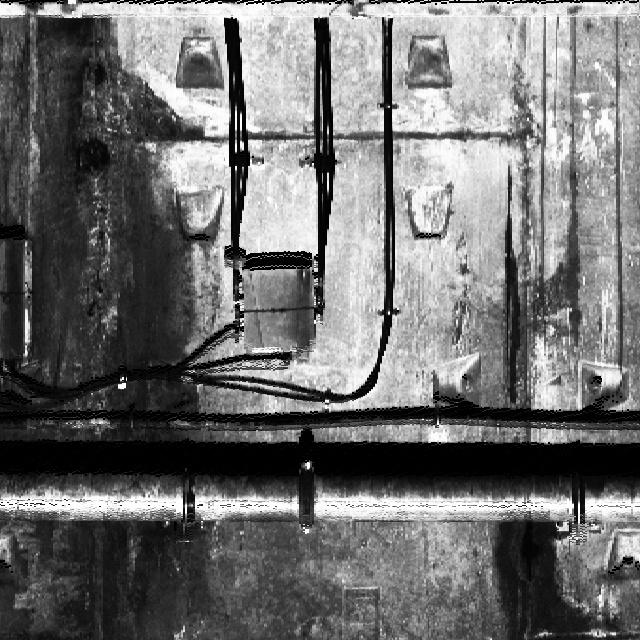leakage: (3, 8, 236, 639), (489, 0, 584, 445), (482, 505, 623, 639)
